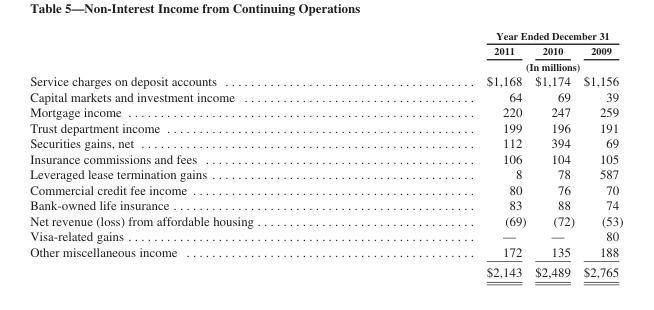table: (29, 29, 622, 279)
table column: (29, 29, 369, 279), (369, 29, 529, 279), (529, 29, 578, 279), (578, 29, 622, 279)
table column header: (29, 29, 622, 72)
table row: (29, 243, 622, 261), (29, 261, 622, 279), (29, 42, 622, 58), (29, 72, 622, 88), (29, 88, 622, 104), (29, 119, 622, 135), (29, 150, 622, 166), (29, 181, 622, 197), (29, 212, 622, 228), (29, 104, 622, 119), (29, 135, 622, 150), (29, 166, 622, 181), (29, 197, 622, 212), (29, 228, 622, 243), (29, 58, 622, 72), (29, 29, 622, 42)
table spanning cell: (369, 58, 622, 72), (369, 29, 622, 42)
